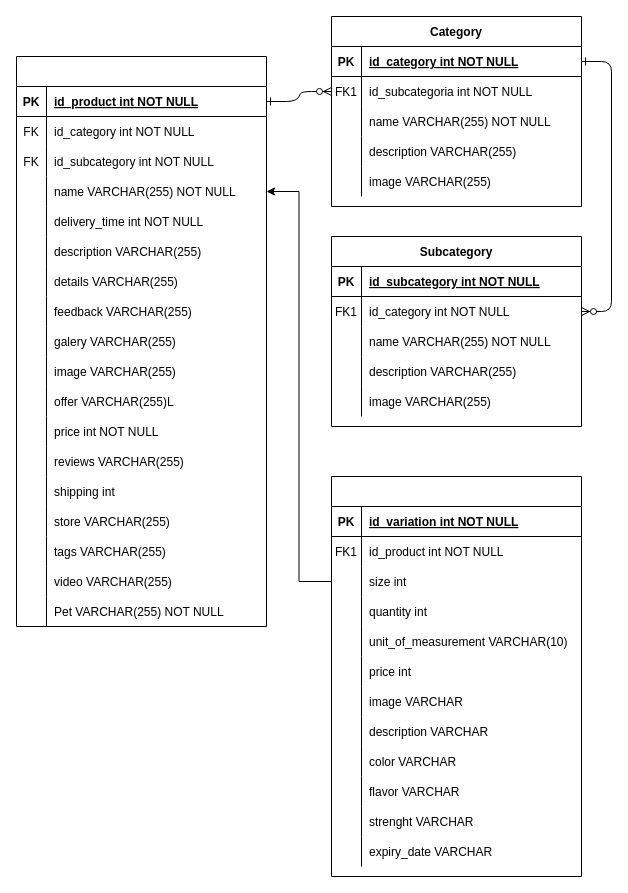
Image size: 628x893. Some labels were removed from this diagram. The box of each missing label's shape, as (x1, y1, x2, y2) in pixels:
Products: (16, 56, 266, 626)
ProductVariations: (330, 476, 582, 876)
